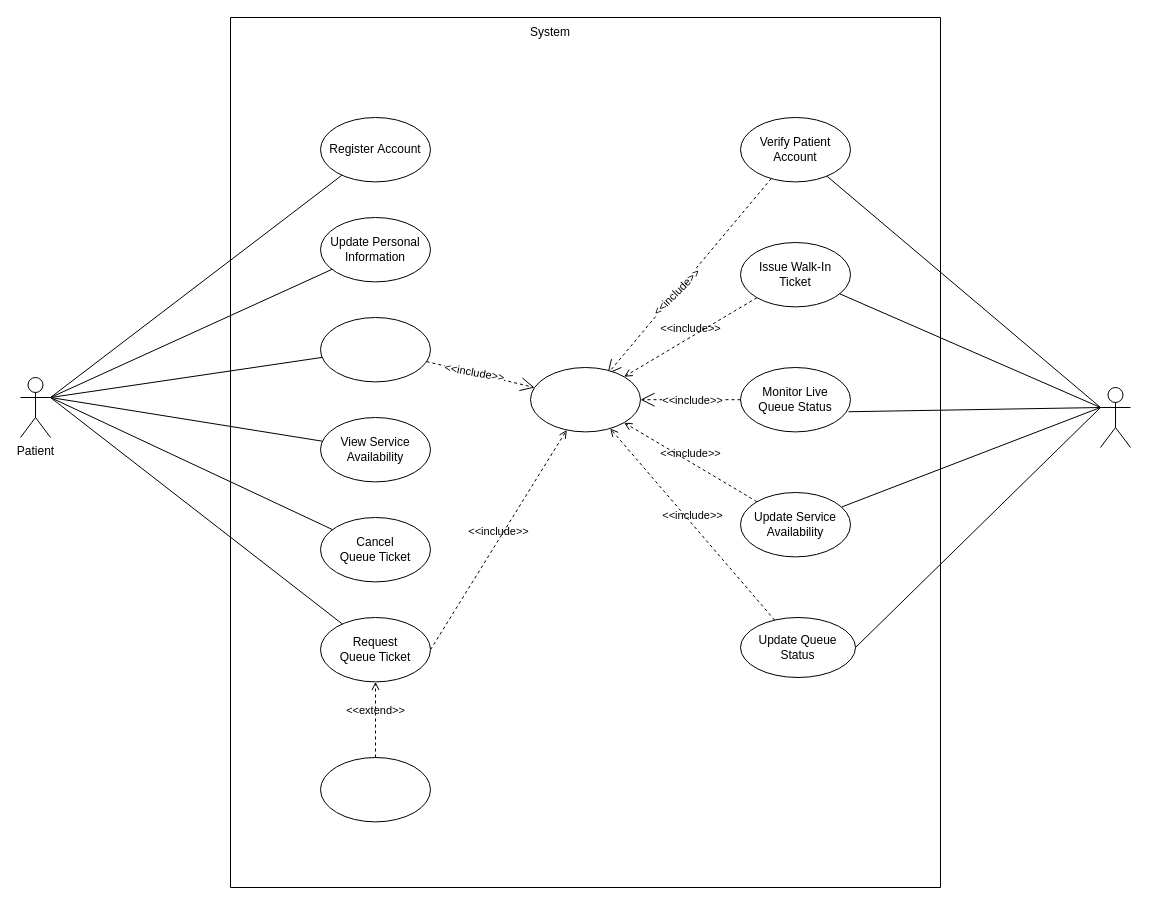
Image size: 1167x905. Some labels were removed from this diagram. Here are the shapes that lost their labels. From the top down, the centre of each, then its label:
At [375,349]: "Monitor Live Queue Position".
At [585,399]: "Authenticate User".
At [1115,417]: "Staff / Admin".
At [375,789]: "Apply Senior/PWD Priority".
